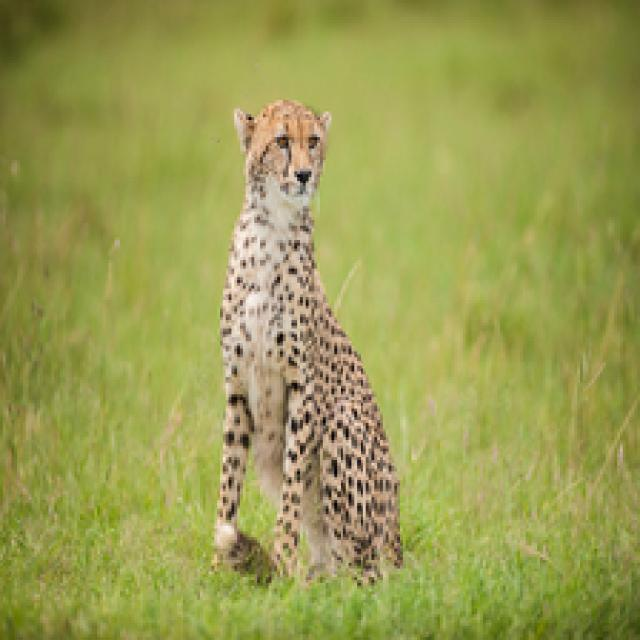cheetah: (195, 109, 432, 610)
